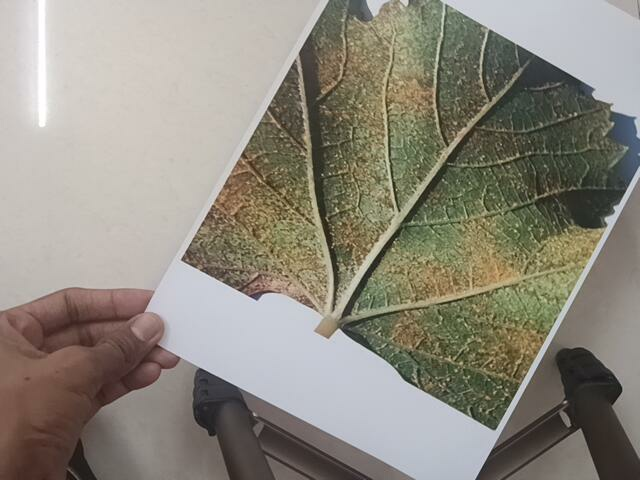Grape_Rust_Fungus: (198, 27, 626, 384)
